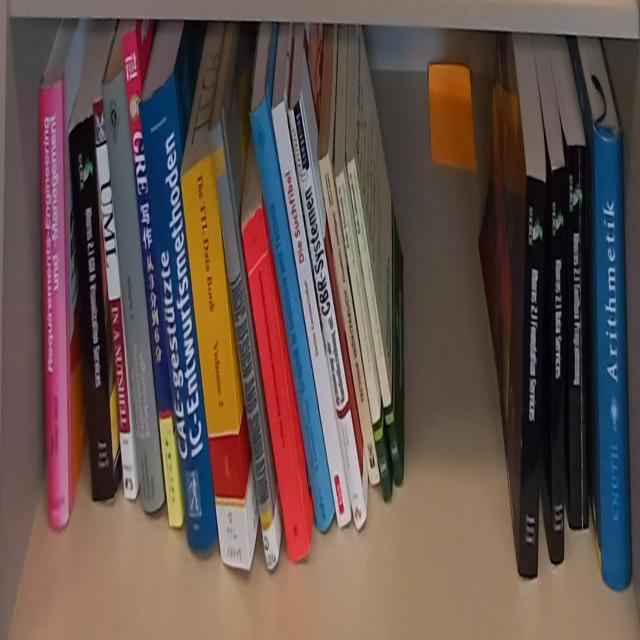Book Spine: (248, 91, 335, 533), (286, 91, 369, 536), (141, 75, 218, 554), (269, 97, 353, 536), (210, 118, 281, 576), (121, 30, 184, 529), (179, 149, 252, 572), (105, 64, 166, 519), (240, 207, 311, 563), (318, 144, 380, 491), (335, 163, 392, 504), (92, 92, 139, 505), (345, 153, 402, 491), (69, 114, 115, 504), (593, 123, 631, 595), (39, 75, 70, 532), (516, 173, 543, 584), (568, 148, 589, 528), (547, 166, 565, 572)
